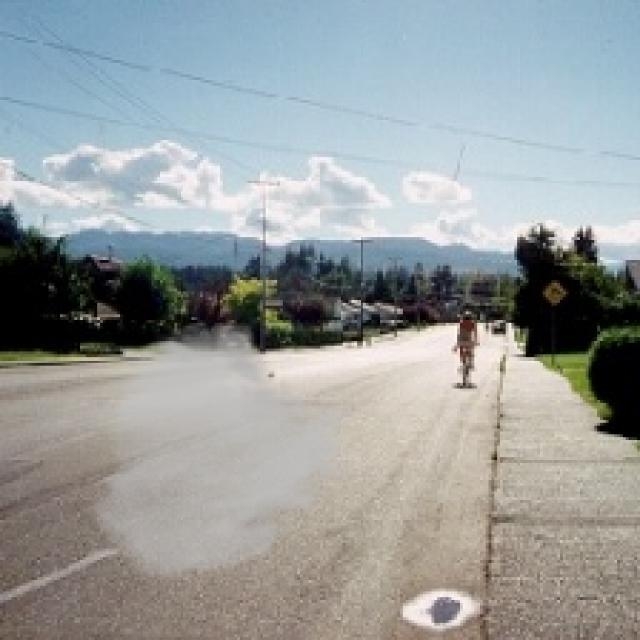Smoke: (89, 317, 358, 583)
